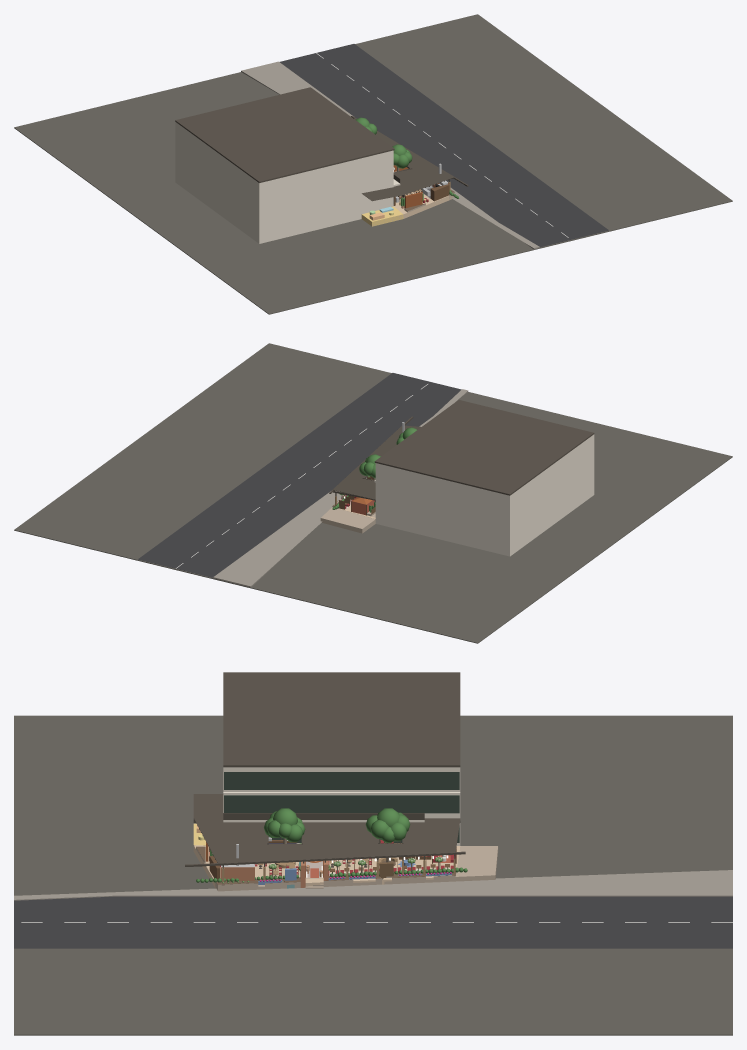
File: samarkand-base3d-R9.glb
The picture shows the model from 3 angles, top to bottom: view 1: azimuth 30°, elevation 25°; view 2: azimuth 150°, elevation 25°; view 3: azimuth 270°, elevation 25°; orthographic projection. The views are drawn at different scales.
Parts seen in each view (by area): view 1: ground, road, building_hall, parapet, sidewalk, roof_panel_0, terrace_floor; view 2: ground, road, building_hall, parapet, sidewalk, driveway, roof_panel_4; view 3: ground, road, parapet, sidewalk, facade_glass, roof_panel_0, roof_panel_2, building_hall, roof_panel_4, terrace_floor, driveway, slab_F2_balcony (+6 smaller).
Boxes of the visible parts, x1,y1,x2,y2 form: ground: (14, 14, 732, 314); road: (280, 44, 608, 248); building_hall: (175, 122, 393, 243); parapet: (175, 87, 394, 182); sidewalk: (241, 61, 539, 249); roof_panel_0: (362, 164, 454, 201); terrace_floor: (361, 191, 452, 225); ground: (14, 343, 732, 643); road: (138, 373, 467, 577); building_hall: (375, 434, 594, 556); parapet: (374, 400, 594, 495); sidewalk: (213, 389, 468, 587); driveway: (320, 507, 375, 533); roof_panel_4: (332, 475, 375, 499); ground: (14, 715, 732, 1035); road: (14, 896, 732, 948); parapet: (223, 672, 460, 767); sidewalk: (14, 870, 732, 900); facade_glass: (224, 772, 459, 842); roof_panel_0: (193, 794, 268, 863); roof_panel_2: (301, 822, 379, 859); building_hall: (223, 767, 460, 845); roof_panel_4: (402, 818, 460, 855); terrace_floor: (193, 845, 460, 889); driveway: (455, 846, 498, 881); slab_F2_balcony: (223, 792, 460, 822).
Size of the model in its own units: 105 by 13.6 by 100.
